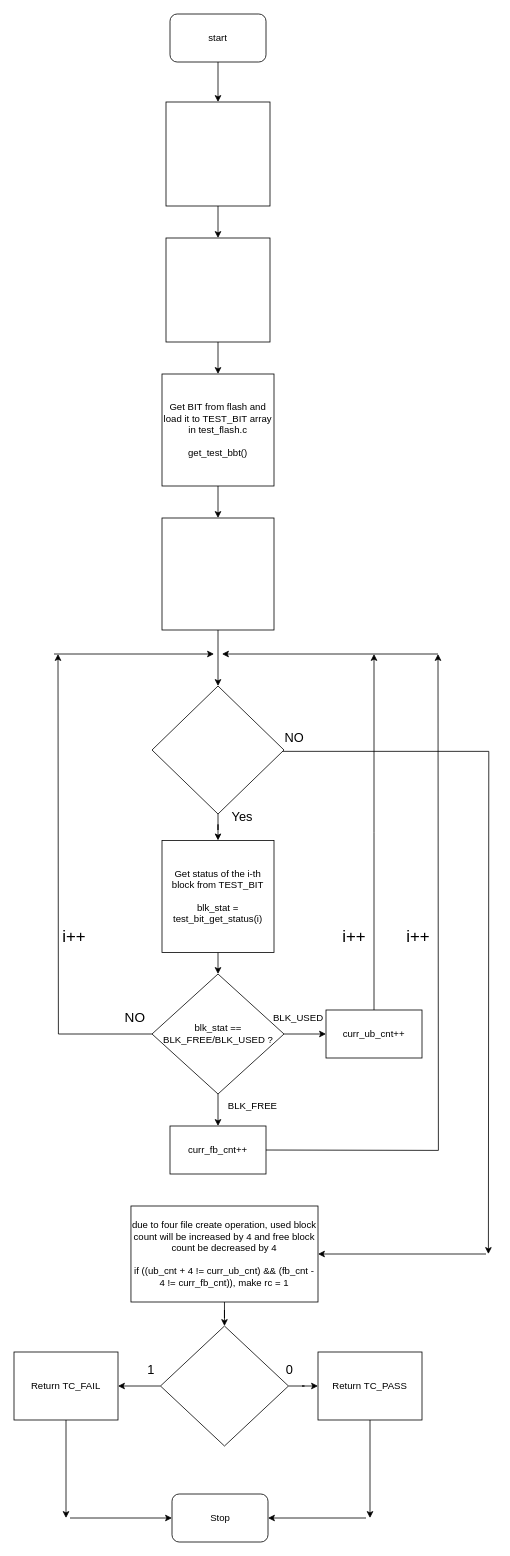
Image size: 510x1556. Some labels were removed from this diagram. The shapes that lost their labels are listed below. From the top down, each one's centre as x and y in pixels, then its label:
point (217, 153): Create four files file_create( "/data/file_name.txt", "hello")
point (217, 289): Save current BIT to flash from ltffs.c fs_save_bit()
point (217, 573): Set start block i = WL_START_BLOCK (block 8)
point (217, 749): i < BLOCK_CNT (1024) ?
point (224, 1385): rc ?
